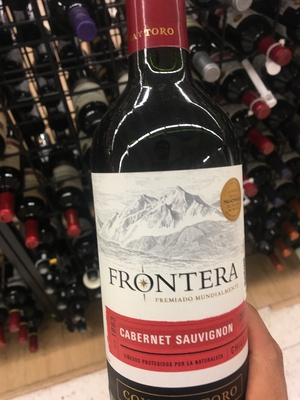frontera cabernet sauvignon: (86, 12, 267, 394)
